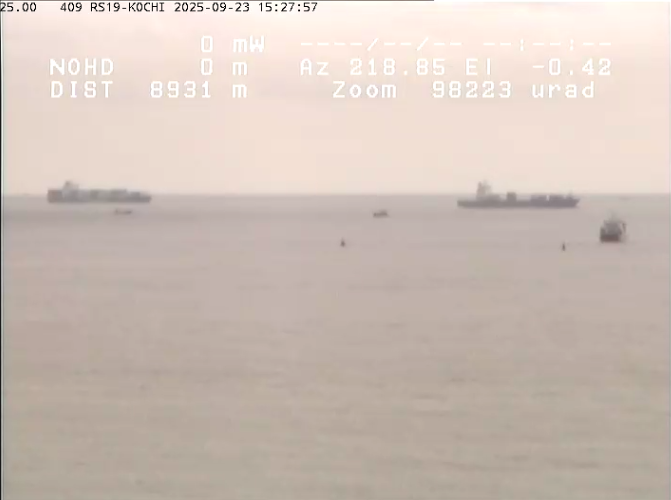CARGO_SHIPS: (445, 177, 587, 214), (29, 171, 168, 207)
TUGS: (591, 215, 638, 249)
